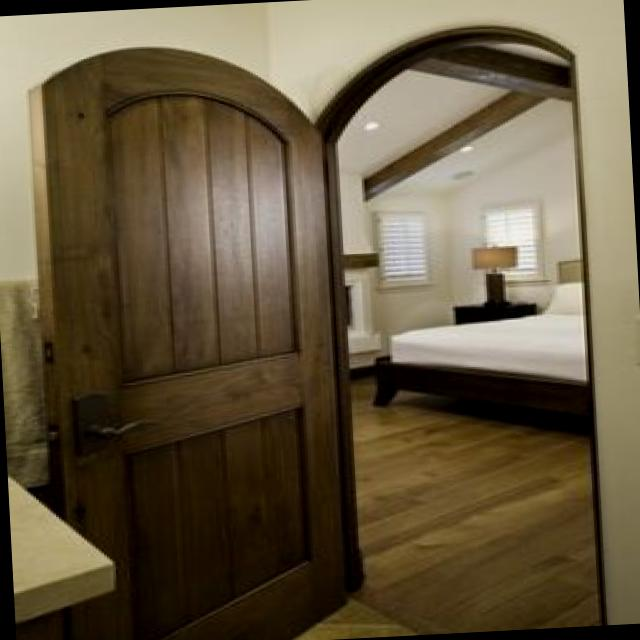door: (30, 26, 604, 640)
